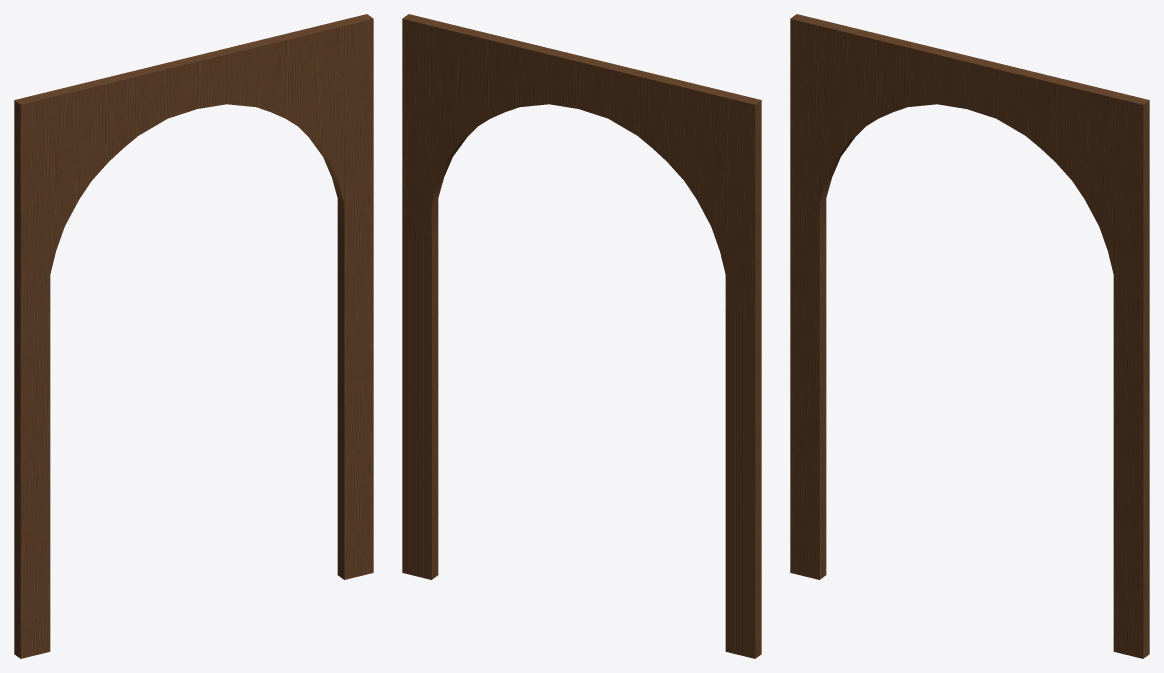
The model's file is Wall_Arch.glb.
The picture shows the model from 3 angles, left to right: view 1: azimuth 30°, elevation 25°; view 2: azimuth 150°, elevation 25°; view 3: azimuth 330°, elevation 25°; orthographic projection.
Visible parts, largest first — view 1: Wall_Arch; view 2: Wall_Arch; view 3: Wall_Arch.
Boxes of the visible parts, left/top/right/bottom form: Wall_Arch: left=14, top=14, right=373, bottom=658; Wall_Arch: left=402, top=14, right=761, bottom=658; Wall_Arch: left=790, top=14, right=1149, bottom=658.
Bounding box in the file's own units: 2 × 3 × 0.0641.
1 material, 1 textured.
